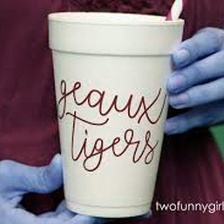paper_cup: (43, 6, 188, 222)
